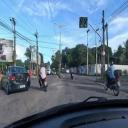NoEstacionar: (102, 50, 106, 57)
